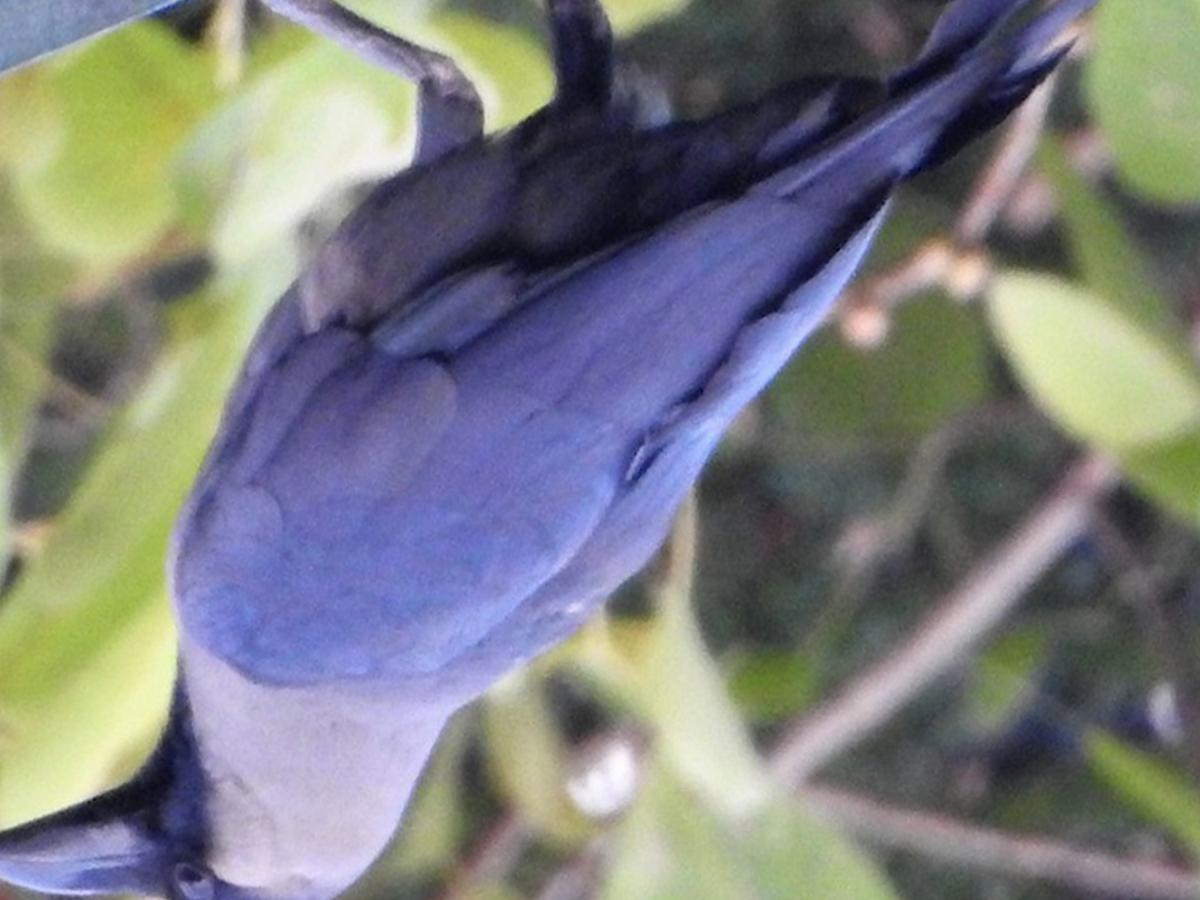crow: (1, 1, 1069, 898)
